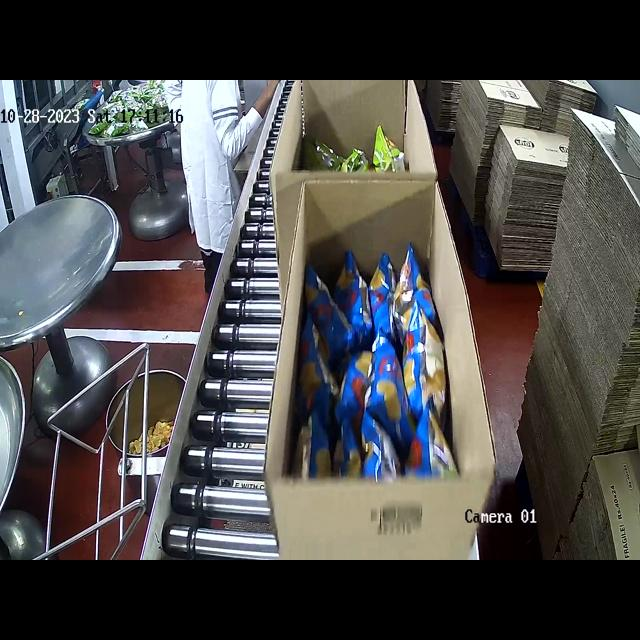paprika: (305, 239, 461, 473)
yogurt: (312, 118, 418, 180)
